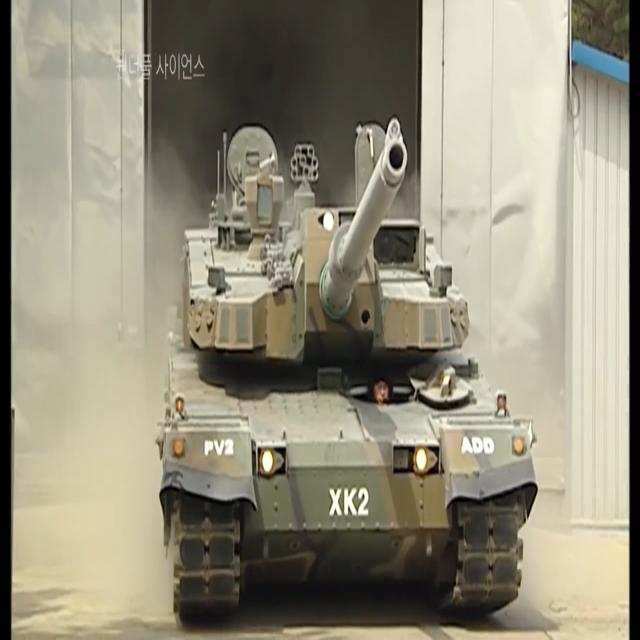korea tank: (153, 115, 539, 623)
